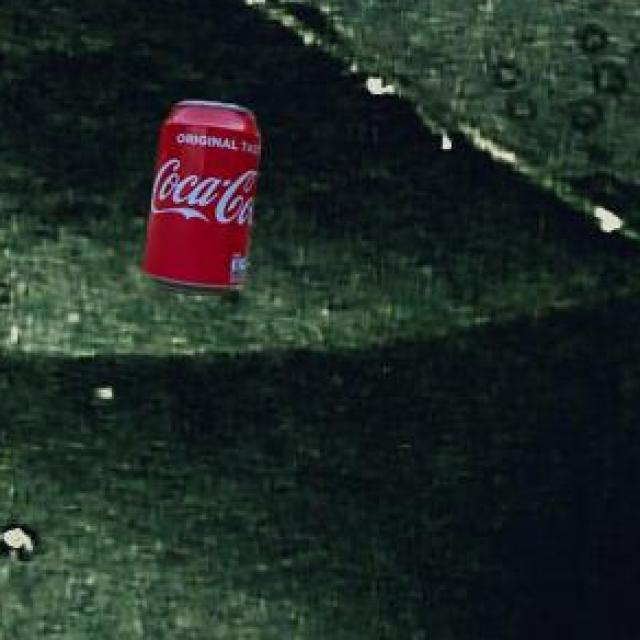logam: (148, 104, 264, 299)
